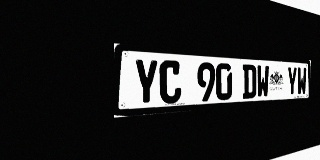0: (216, 63, 232, 101)
9: (197, 62, 215, 102)
C: (159, 60, 181, 104)
D: (243, 64, 256, 99)
W: (257, 65, 269, 98), (297, 67, 306, 95)
Y: (133, 58, 158, 106), (287, 67, 297, 96)
